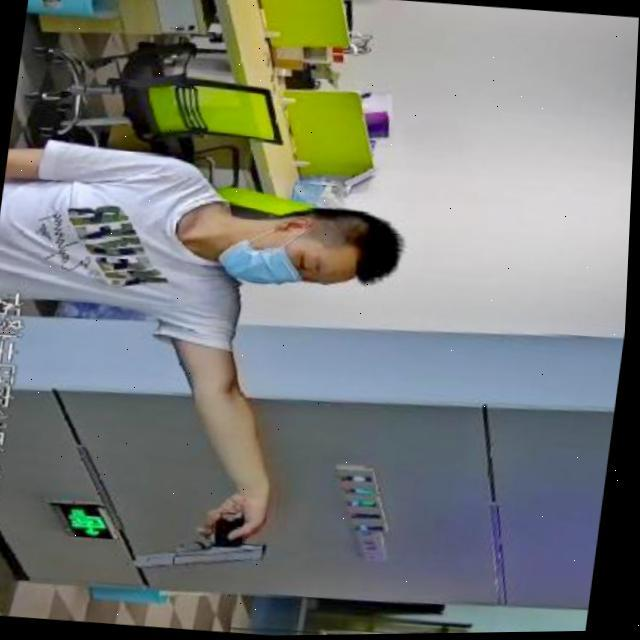gun: (121, 510, 296, 574)
